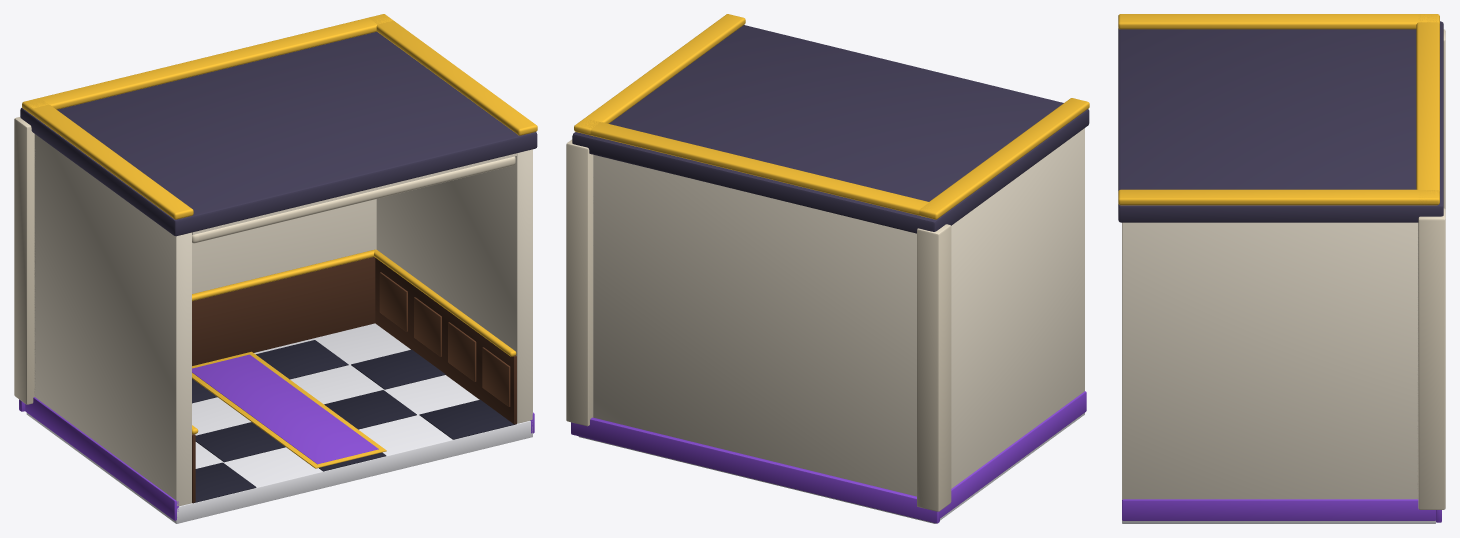
Rendered from PropBackRoom.fbx.
3 views of the same model, side by side, from view 1: azimuth 30°, elevation 25°; view 2: azimuth 150°, elevation 25°; view 3: azimuth 270°, elevation 25° (orthographic). The views are drawn at different scales.
Visible parts, largest first — view 1: Wall, Roof, Marble, DarkWood, Gold, DarkMarble, Trim, AccentRug, PanelWood, Accent, RugGold; view 2: Wall, Roof, Trim, Gold, Accent, Marble; view 3: Wall, Roof, Gold, Trim, Accent, Marble.
Boxes of the visible parts, <box> form: Wall: <box>34,134,532,506</box>; Roof: <box>20,31,537,236</box>; Marble: <box>26,323,532,523</box>; DarkWood: <box>192,257,516,503</box>; Gold: <box>22,14,537,434</box>; DarkMarble: <box>192,340,515,503</box>; Trim: <box>14,117,515,404</box>; AccentRug: <box>192,354,378,464</box>; PanelWood: <box>379,272,510,406</box>; Accent: <box>19,397,534,520</box>; RugGold: <box>192,351,386,468</box>; Wall: <box>593,128,1084,496</box>; Roof: <box>572,25,1089,233</box>; Trim: <box>566,139,951,511</box>; Gold: <box>574,14,1089,219</box>; Accent: <box>571,391,1086,523</box>; Marble: <box>578,413,1084,523</box>; Wall: <box>1122,222,1418,499</box>; Roof: <box>1118,21,1443,222</box>; Gold: <box>1118,14,1439,205</box>; Trim: <box>1418,29,1445,509</box>; Accent: <box>1122,499,1441,522</box>; Marble: <box>1122,520,1435,523</box>.
Bounding box in the file's own units: 2300 × 1840 × 1670.
